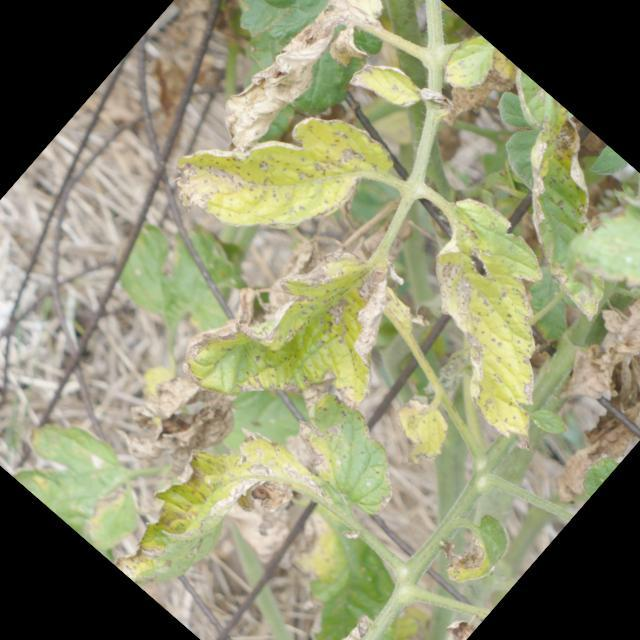Tomato Septoria spot leaf: (99, 341, 424, 640), (340, 172, 640, 469), (164, 202, 438, 480), (154, 46, 403, 295), (460, 100, 640, 326), (557, 167, 640, 374), (374, 386, 464, 476), (343, 45, 427, 127), (431, 26, 509, 105)
